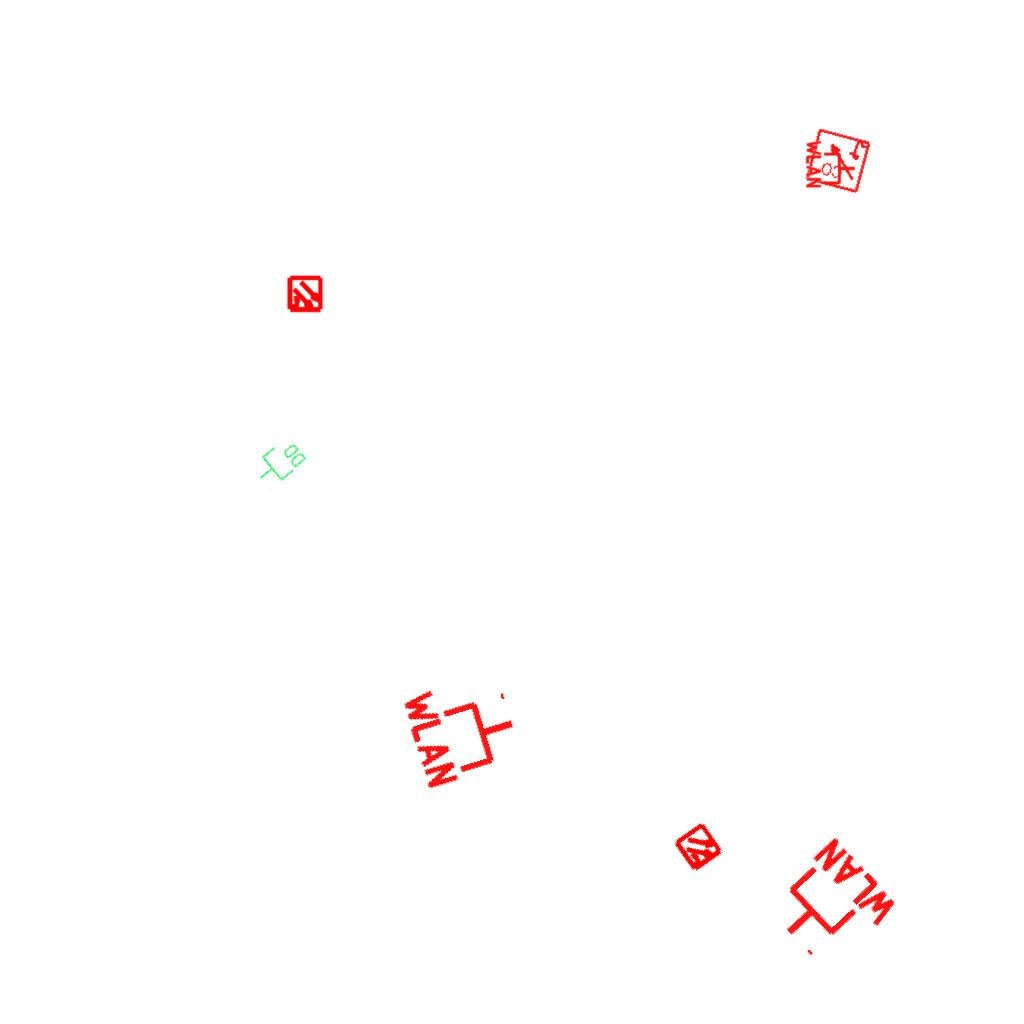Datenanschluss_zweifach: (248, 433, 311, 493)
OT_Multisensormelder_(Kombination_RMO_WMD): (660, 809, 738, 887), (277, 267, 333, 323)
ROA_Rauchmelder_optisch_mit_Signalgeber_(Sockelsirene): (803, 125, 873, 195)
WLAN: (756, 832, 905, 980), (398, 663, 529, 795), (805, 138, 857, 190)
